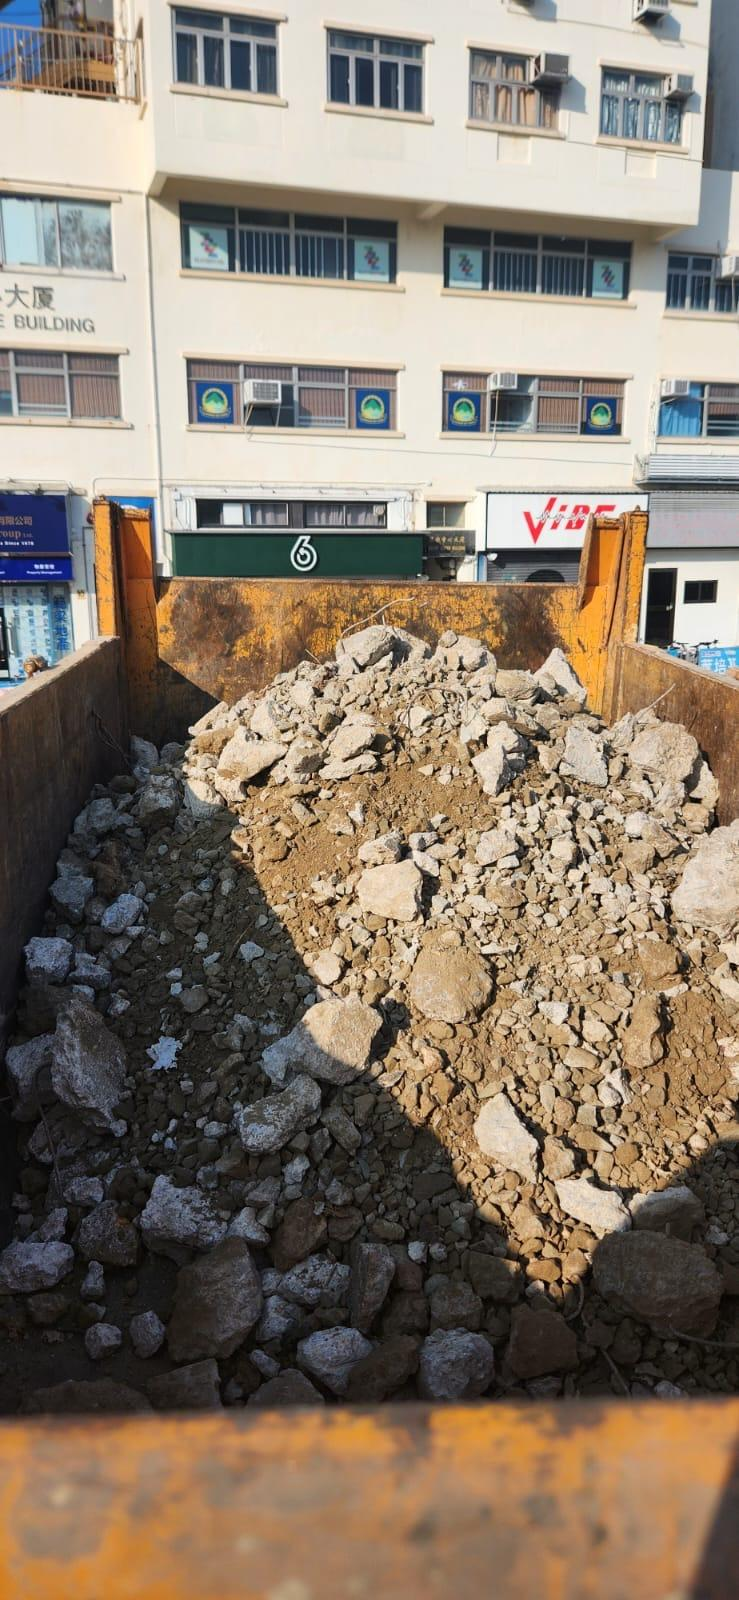dry: (15, 638, 720, 1393)
